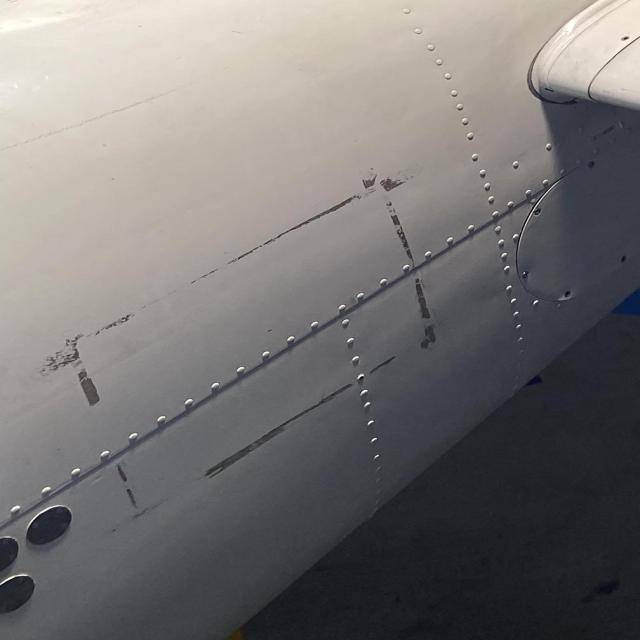Missing-head: (561, 290, 574, 300), (619, 255, 628, 263)
